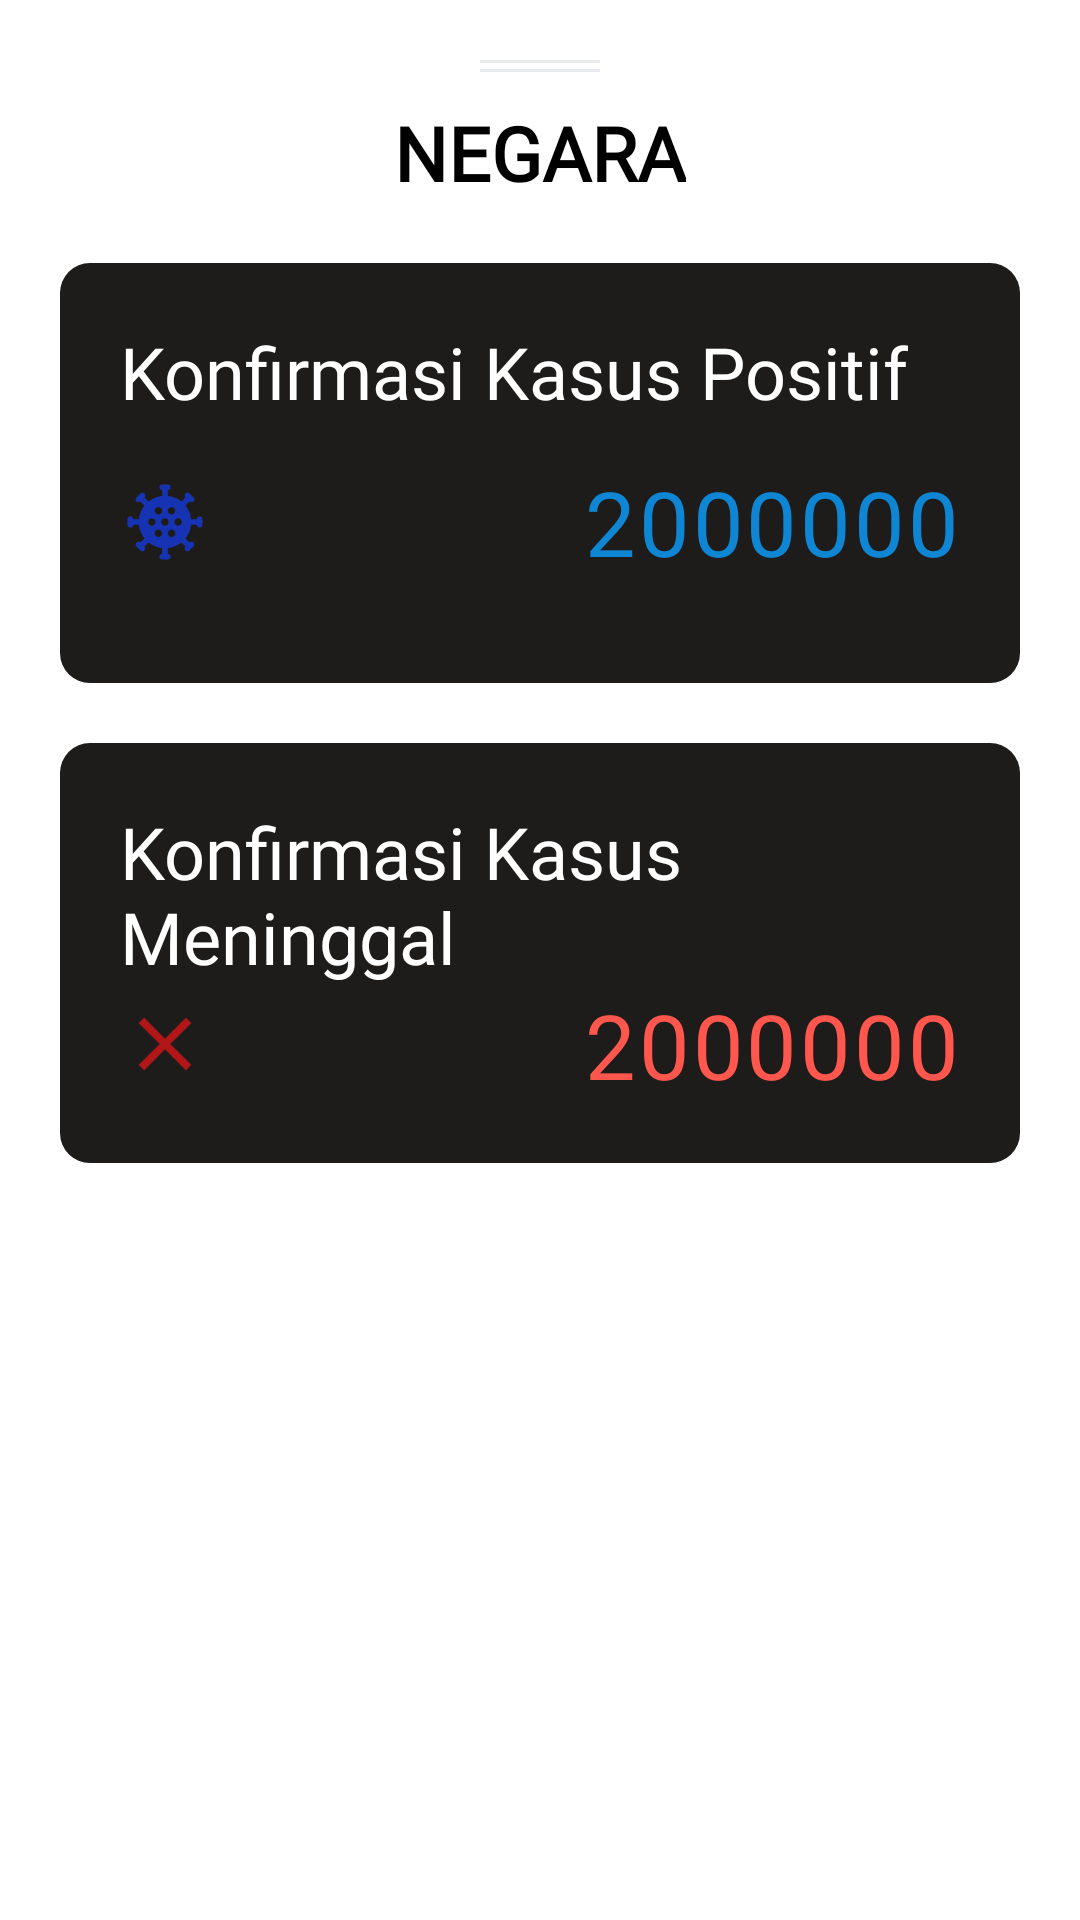

Icons on this 1080×1920 Android screen, each with the point to tap as (x,y):
close: (165,1044)
coronavirus: (165,522)
